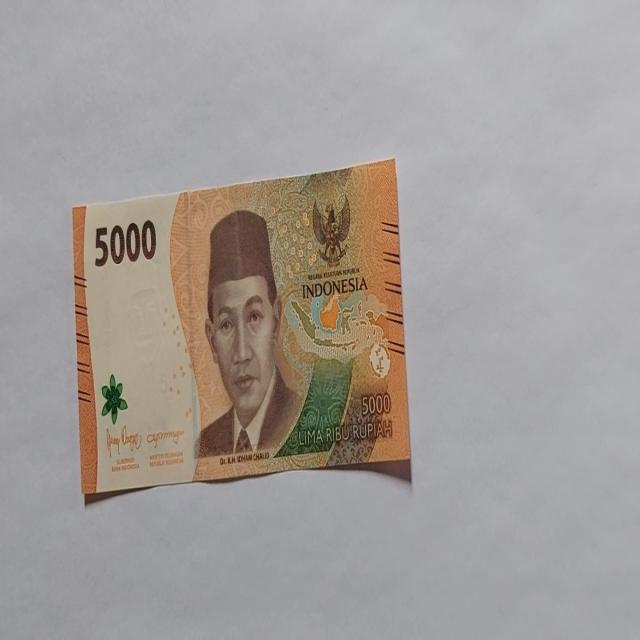lima ribu rupiah: (72, 158, 412, 502), (192, 208, 306, 461)
